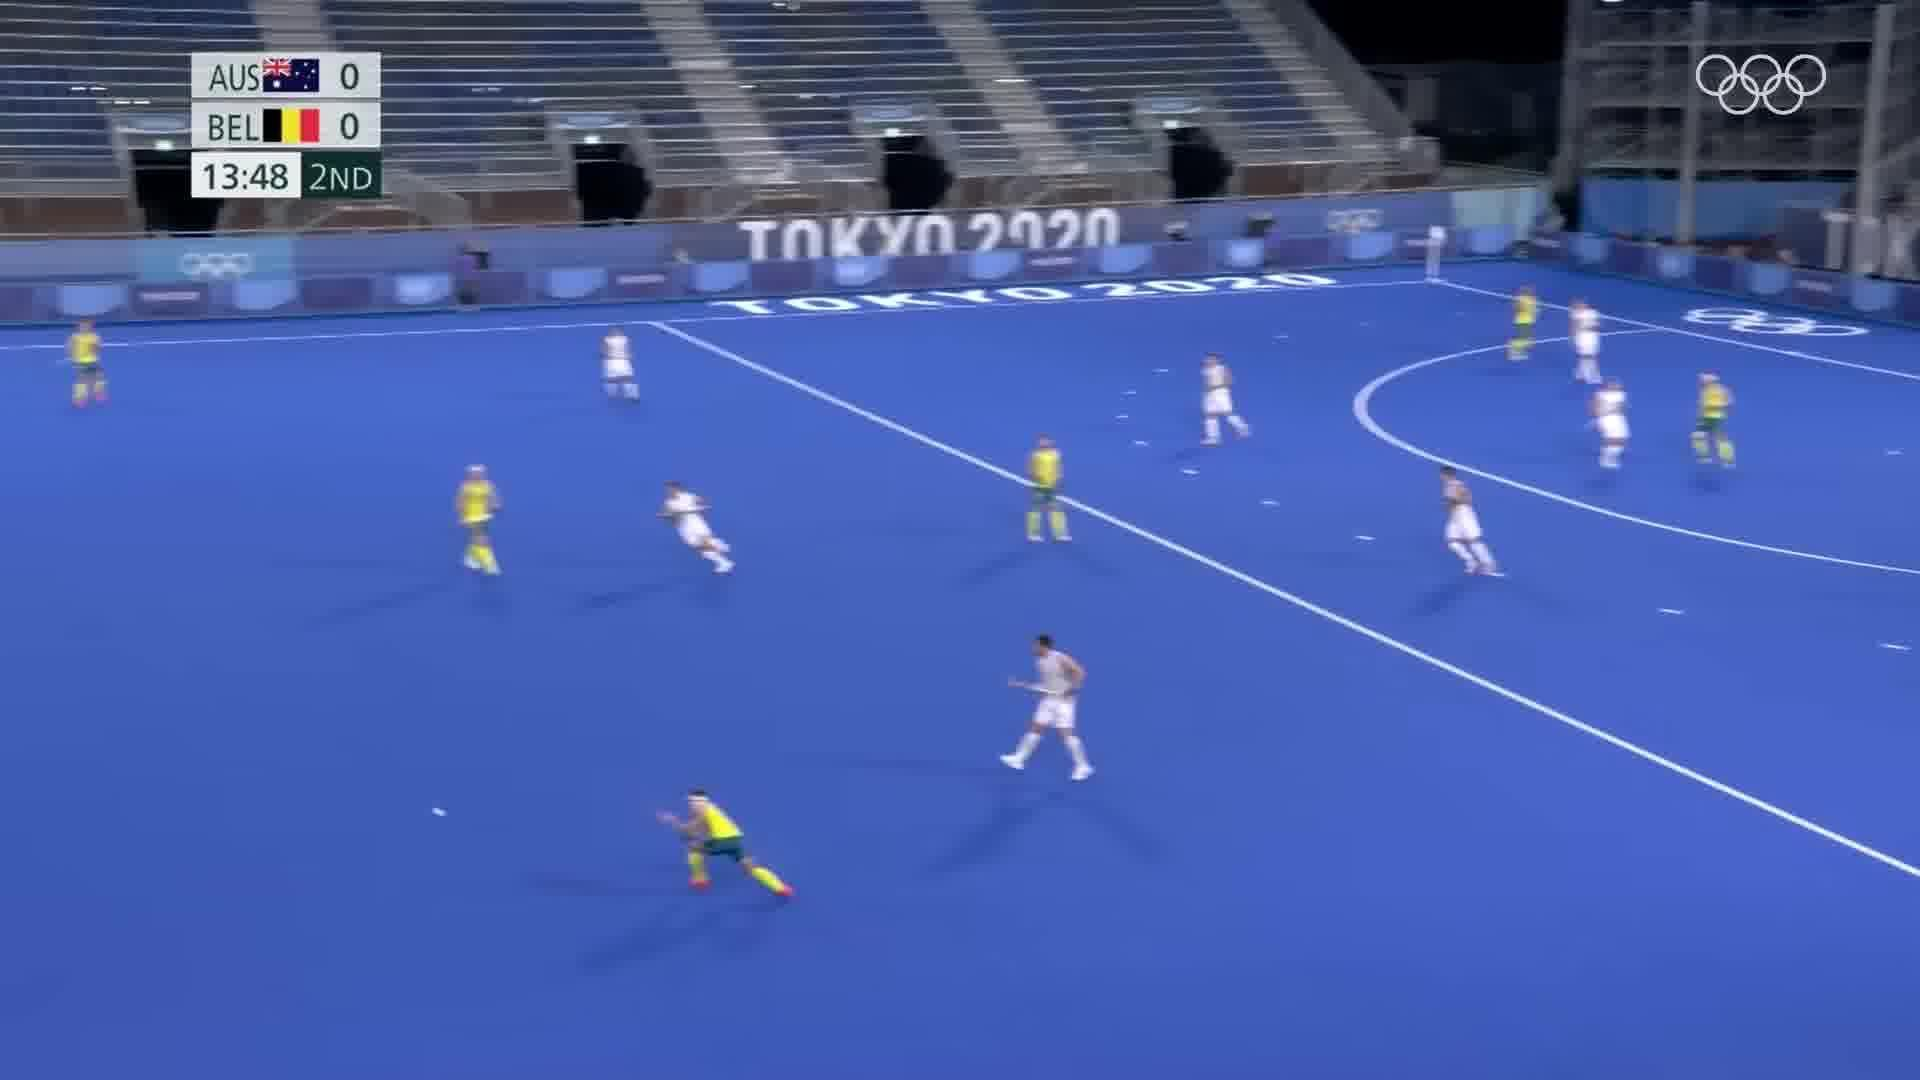ball: (421, 796, 458, 827)
